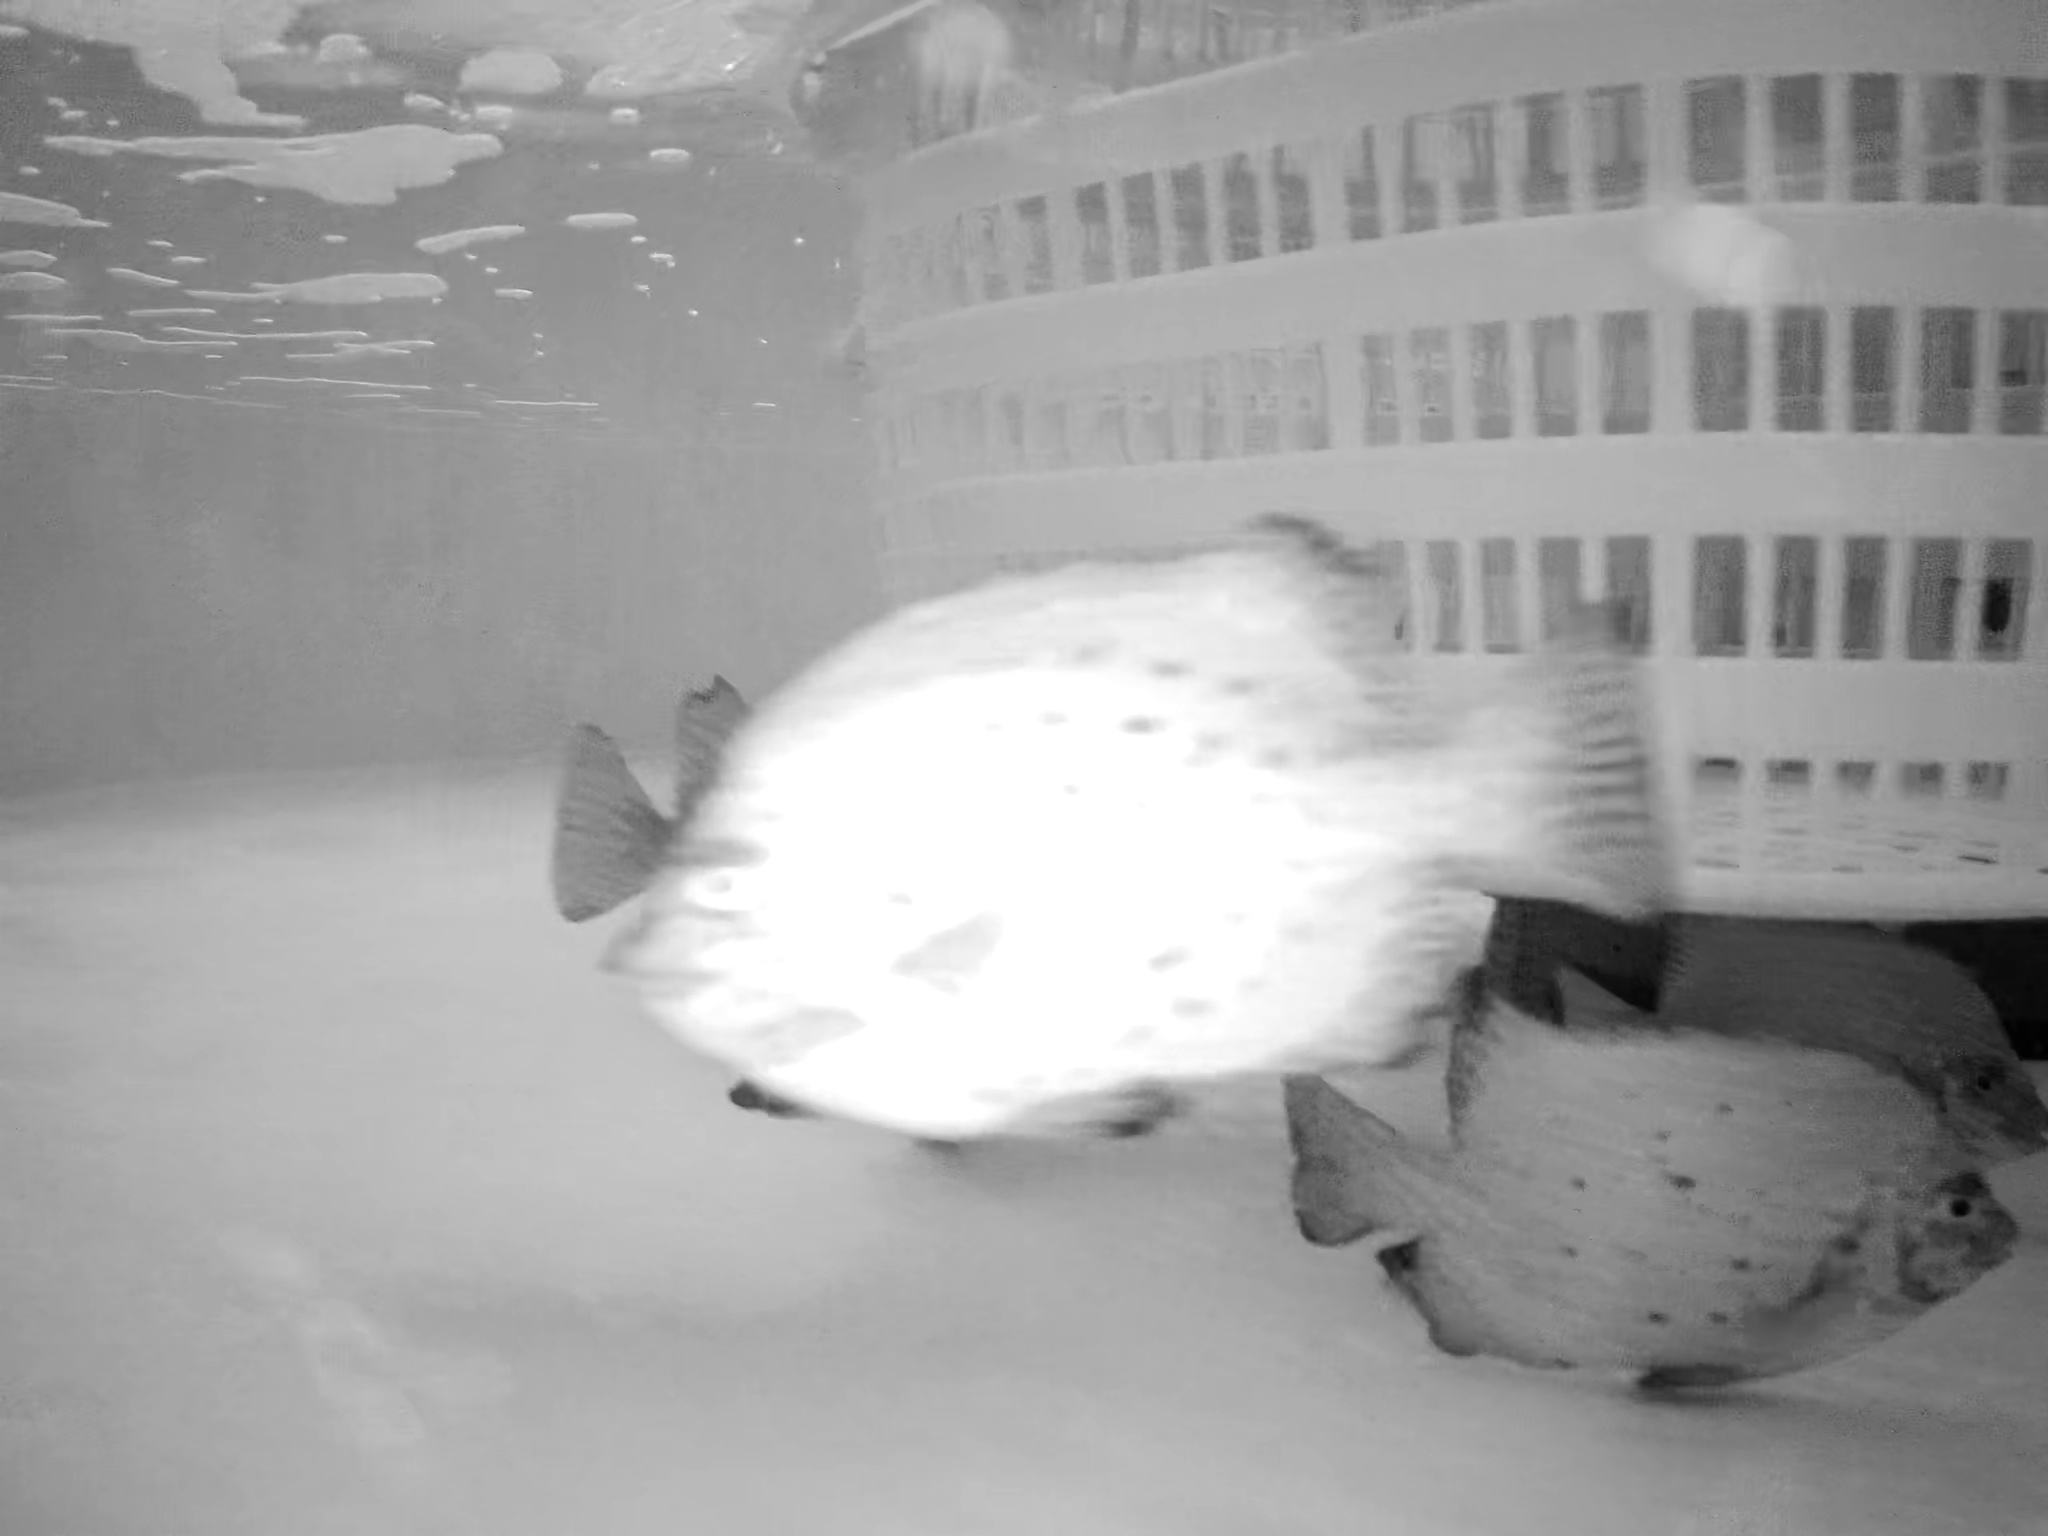fish: (590, 520, 1655, 1105), (1282, 1005, 2033, 1389), (552, 695, 1130, 1113), (1548, 921, 2040, 1167)
